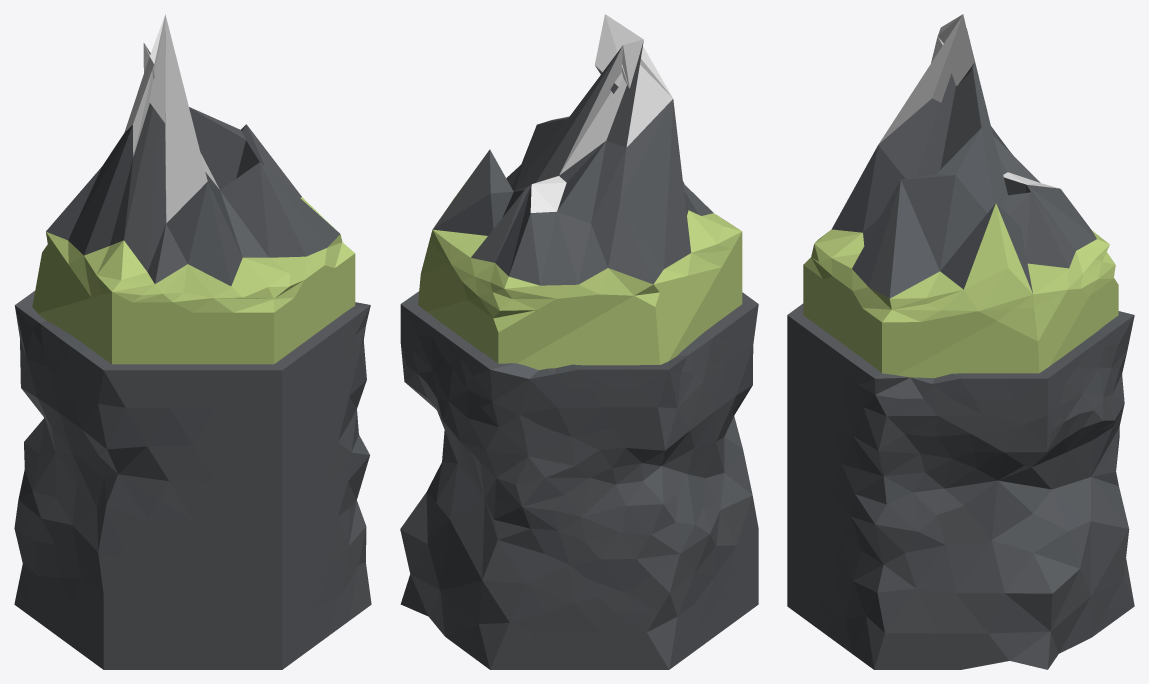
The model's file is mountains.fbx.
The picture shows the model from 3 angles, left to right: view 1: azimuth 30°, elevation 25°; view 2: azimuth 150°, elevation 25°; view 3: azimuth 270°, elevation 25°; orthographic projection. The views are drawn at different scales.
Visible parts, largest first — view 1: plain_base.002, plain_top.001; view 2: plain_base.002, plain_top.001; view 3: plain_base.002, plain_top.001.
Boxes of the visible parts, box(x1,y1,x2,y2) form: plain_base.002: box(14, 291, 371, 669); plain_top.001: box(32, 14, 355, 364); plain_base.002: box(400, 291, 758, 669); plain_top.001: box(418, 14, 742, 370); plain_base.002: box(787, 303, 1134, 669); plain_top.001: box(803, 14, 1118, 378).
Size of the model in its own units: 234 by 485 by 263.
